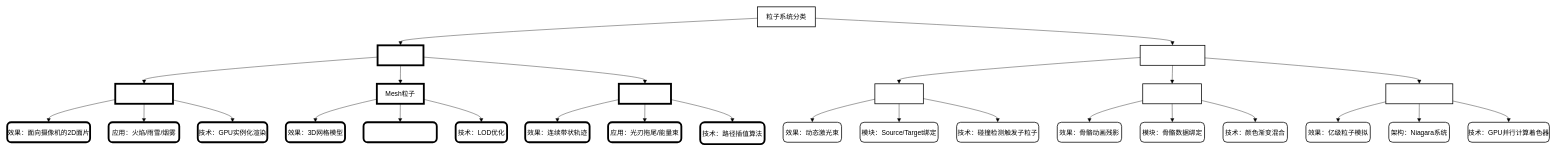
Image size: 1556x151. Some labels were removed from this diagram. Here are the shapes that lost their labels. From the top down, the box of each, then its label:
(376, 44, 424, 66): 基础类型
(1140, 45, 1205, 65): UE引擎扩展类型
(114, 83, 174, 105): Billboard粒子
(618, 83, 672, 105): Ribbon粒子
(874, 83, 924, 104): Beam粒子
(1142, 83, 1202, 104): AnimTrail粒子
(1385, 83, 1453, 104): Niagara GPU粒子
(362, 121, 438, 143): 应用：飞鸟群/碎片爆炸
